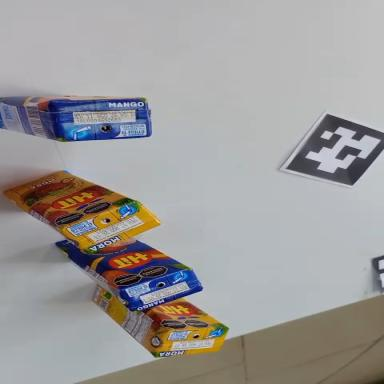HIT-MANGO: (44, 207, 208, 335), (0, 96, 150, 141)
HIT-MORA: (0, 152, 165, 274), (86, 285, 231, 368)
cara_F: (50, 206, 191, 313), (3, 149, 136, 244), (146, 295, 229, 331), (0, 96, 145, 101)
